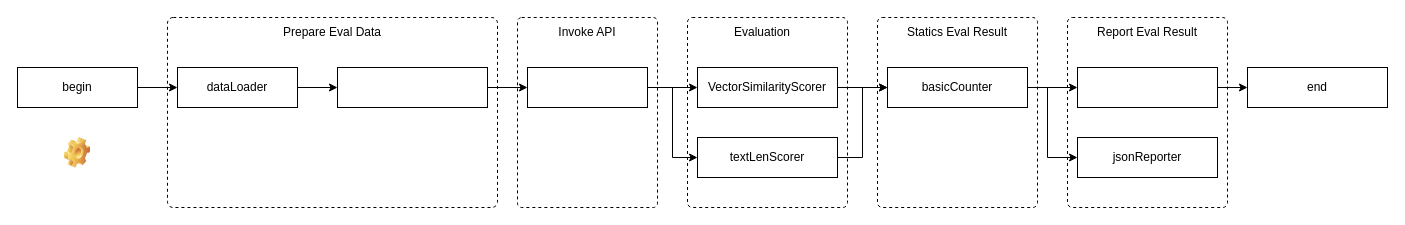
Image size: 1405x225. Some labels were removed from this diagram. Each missing label, with the box of its shape:
apiCompletion: (526, 66, 648, 108)
DAG W orkflow: (64, 137, 90, 168)
htmlReporter: (1076, 66, 1218, 108)
mockDataLoaderWrapper: (336, 66, 488, 108)
